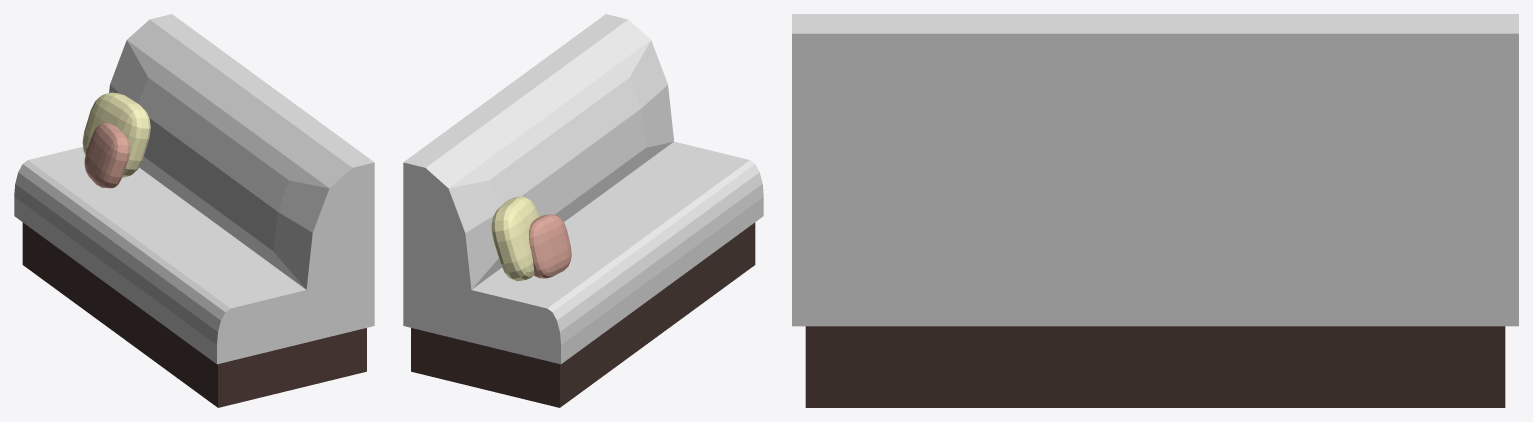
Rendered from BoothTwoPillowSmall.fbx.
The picture shows the model from 3 angles, left to right: view 1: azimuth 30°, elevation 25°; view 2: azimuth 150°, elevation 25°; view 3: azimuth 270°, elevation 25°; orthographic projection. The views are drawn at different scales.
Visible parts, largest first — view 1: Cube, Cube.004, Cube.001, Cube.002; view 2: Cube, Cube.004, Cube.001, Cube.002; view 3: Cube, Cube.004.
Part boxes in pixels (bbox=[...]): Cube: bbox=[14, 14, 374, 364]; Cube.004: bbox=[22, 222, 366, 407]; Cube.001: bbox=[82, 92, 150, 177]; Cube.002: bbox=[84, 123, 130, 188]; Cube: bbox=[403, 14, 763, 364]; Cube.004: bbox=[411, 222, 755, 407]; Cube.001: bbox=[491, 196, 539, 281]; Cube.002: bbox=[529, 214, 571, 278]; Cube: bbox=[792, 14, 1518, 326]; Cube.004: bbox=[805, 326, 1505, 407].
Bounding box in the file's own units: 532 × 680 × 1184.
